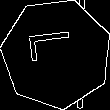L_E: (30, 35, 83, 72)
